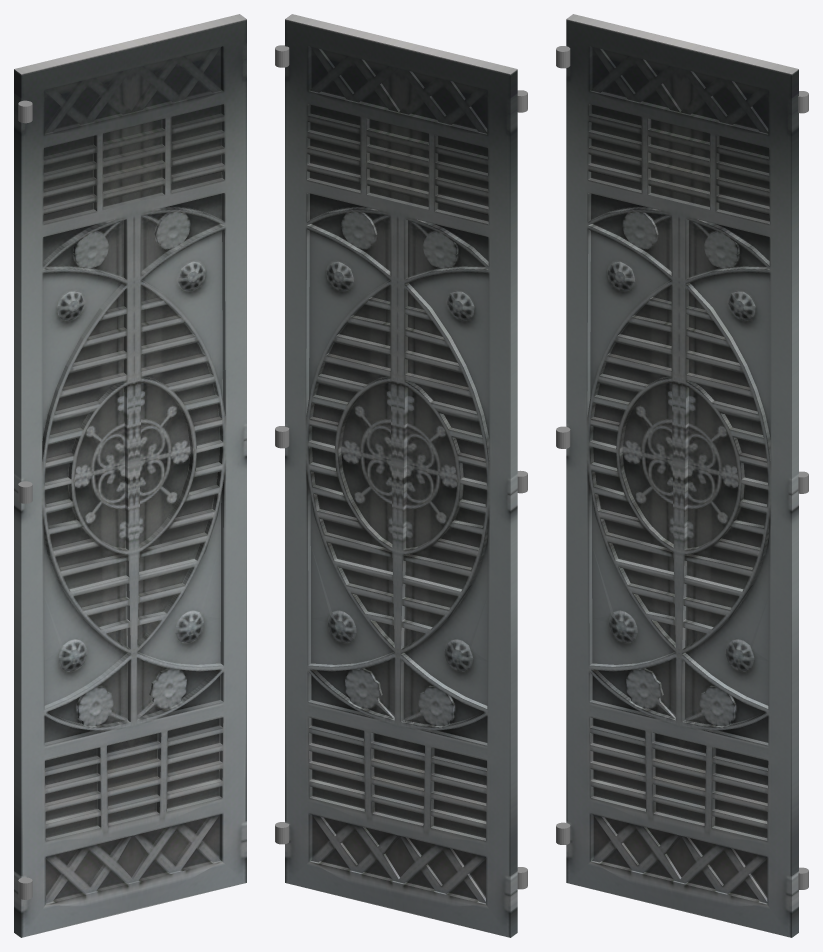
File: EntranceDoorRight2.fbx
The picture shows the model from 3 angles, left to right: view 1: azimuth 30°, elevation 25°; view 2: azimuth 150°, elevation 25°; view 3: azimuth 330°, elevation 25°; orthographic projection.
Parts seen in each view (by area): view 1: EntranceDoorRight2; view 2: EntranceDoorRight2; view 3: EntranceDoorRight2.
Part boxes in pixels (box(x1,y1,x2,y2)): EntranceDoorRight2: box(14, 14, 246, 937); EntranceDoorRight2: box(275, 14, 527, 937); EntranceDoorRight2: box(556, 14, 808, 937).
Bounding box in the file's own units: 97.32 × 338 × 14.72.
Materials: 2 (1 with a texture image).
